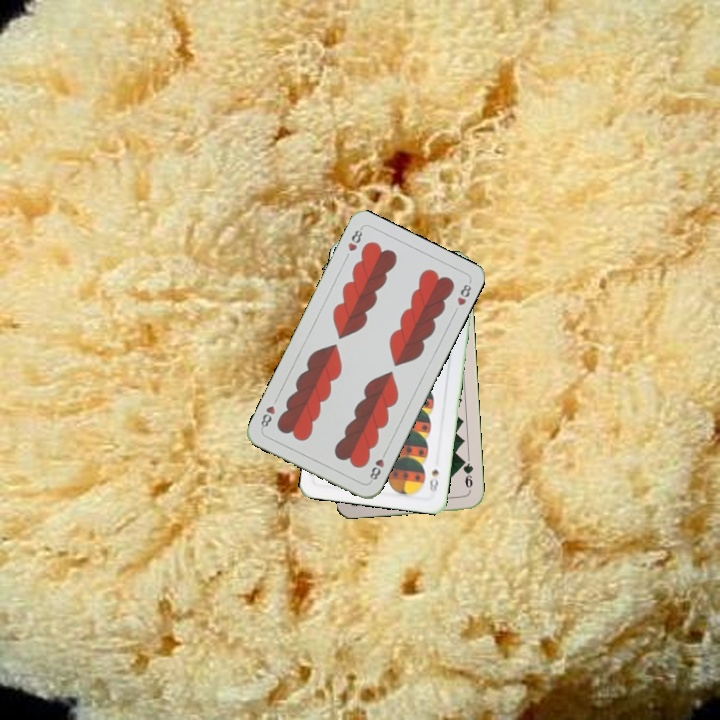G9: (458, 454, 476, 495)
H8: (365, 447, 389, 485), (344, 224, 365, 254)
S8: (425, 465, 441, 495)
